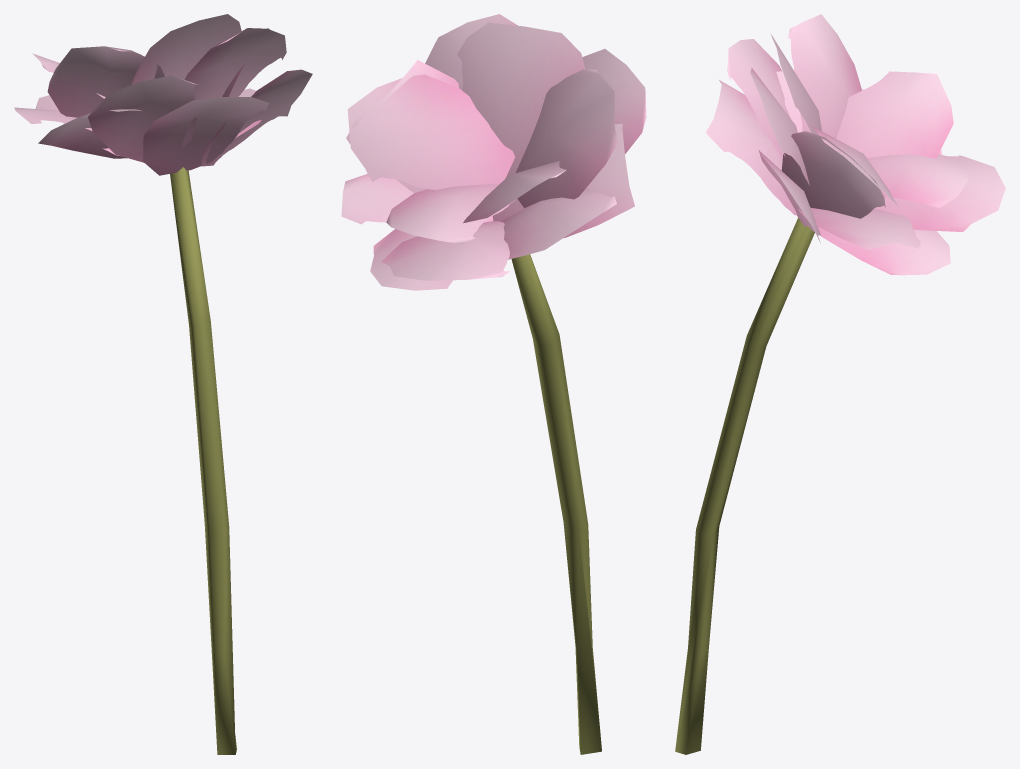
File: orangeTallSingle.fbx
The picture shows the model from 3 angles, left to right: view 1: azimuth 30°, elevation 25°; view 2: azimuth 150°, elevation 25°; view 3: azimuth 270°, elevation 25°; orthographic projection. The views are drawn at different scales.
Visible parts, largest first — view 1: Cylinder.002, Cylinder.000; view 2: Cylinder.002, Cylinder.000; view 3: Cylinder.002, Cylinder.000.
Boxes of the visible parts, bbox=[...] form: Cylinder.002: bbox=[14, 14, 312, 175]; Cylinder.000: bbox=[170, 167, 236, 754]; Cylinder.002: bbox=[341, 14, 646, 290]; Cylinder.000: bbox=[511, 254, 601, 754]; Cylinder.002: bbox=[706, 14, 1005, 275]; Cylinder.000: bbox=[675, 218, 814, 754].
Bounding box in the file's own units: 46.35 × 121 × 50.92.
